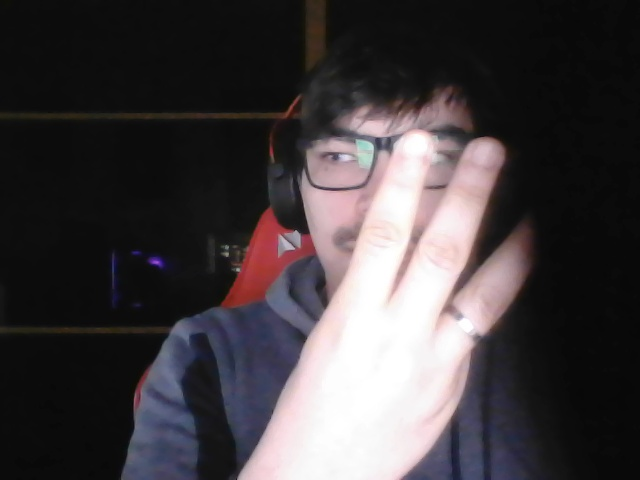three: (226, 109, 531, 480)
